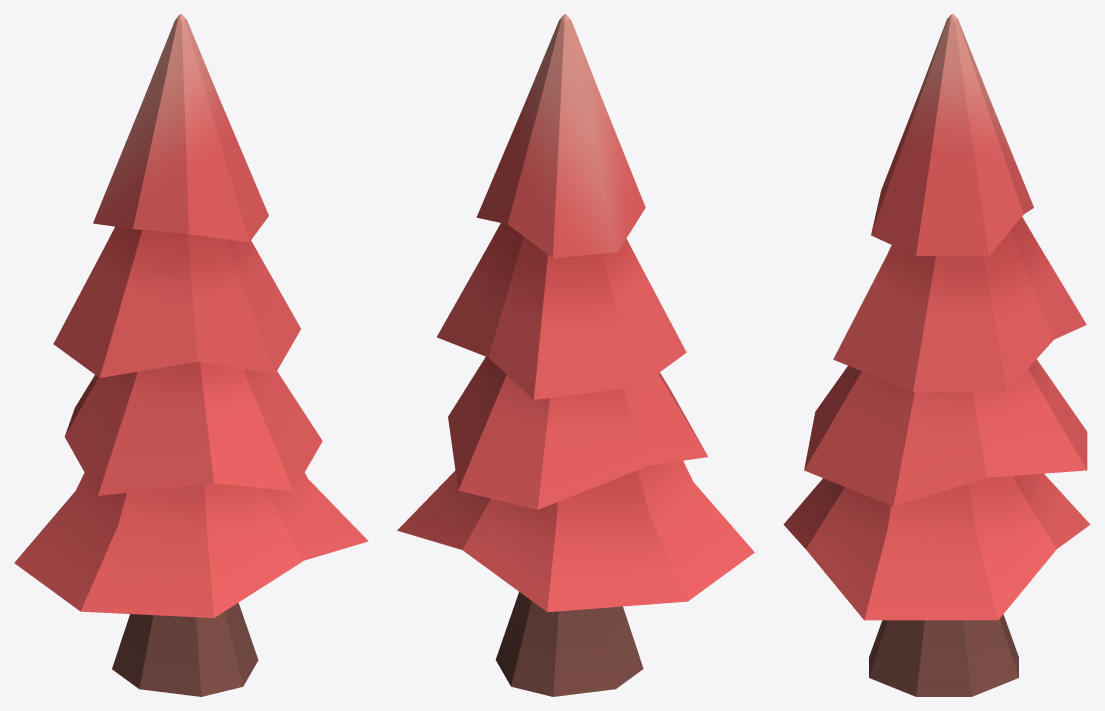
The model's file is Tree_Mesh_01.fbx.
3 renders of one model, left to right at view 1: azimuth 30°, elevation 25°; view 2: azimuth 150°, elevation 25°; view 3: azimuth 270°, elevation 25°, orthographic.
Visible parts, largest first — view 1: Tree_01; view 2: Tree_01; view 3: Tree_01.
Part boxes in pixels (x1,y1,x2,y2): Tree_01: (14,14,368,696); Tree_01: (397,14,754,696); Tree_01: (783,14,1090,696).
Bounding box in the file's own units: 5.47 × 11.73 × 5.
